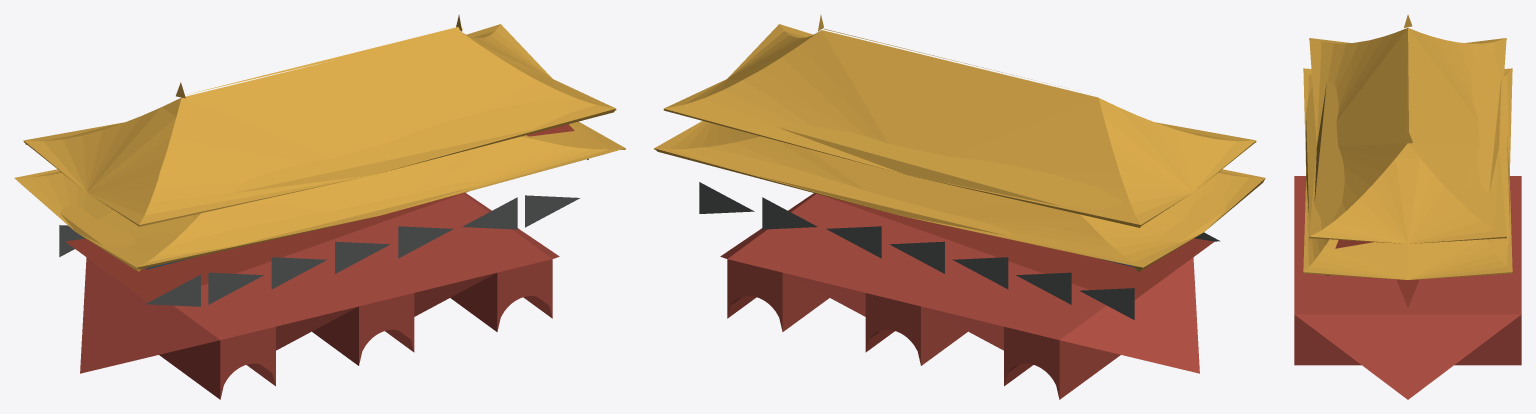
Rendered from shenwumen-far-ebab511398.glb.
The picture shows the model from 3 angles, left to right: view 1: azimuth 30°, elevation 25°; view 2: azimuth 150°, elevation 25°; view 3: azimuth 270°, elevation 25°; orthographic projection. The views are drawn at different scales.
Visible parts, largest first — view 1: shenwumen coarse.001; view 2: shenwumen coarse.001; view 3: shenwumen coarse.001.
Part boxes in pixels (x1,y1,x2,y2): shenwumen coarse.001: [14, 14, 625, 399]; shenwumen coarse.001: [654, 14, 1265, 399]; shenwumen coarse.001: [1294, 14, 1521, 399].
Bounding box in the file's own units: 53 × 31 × 25.
